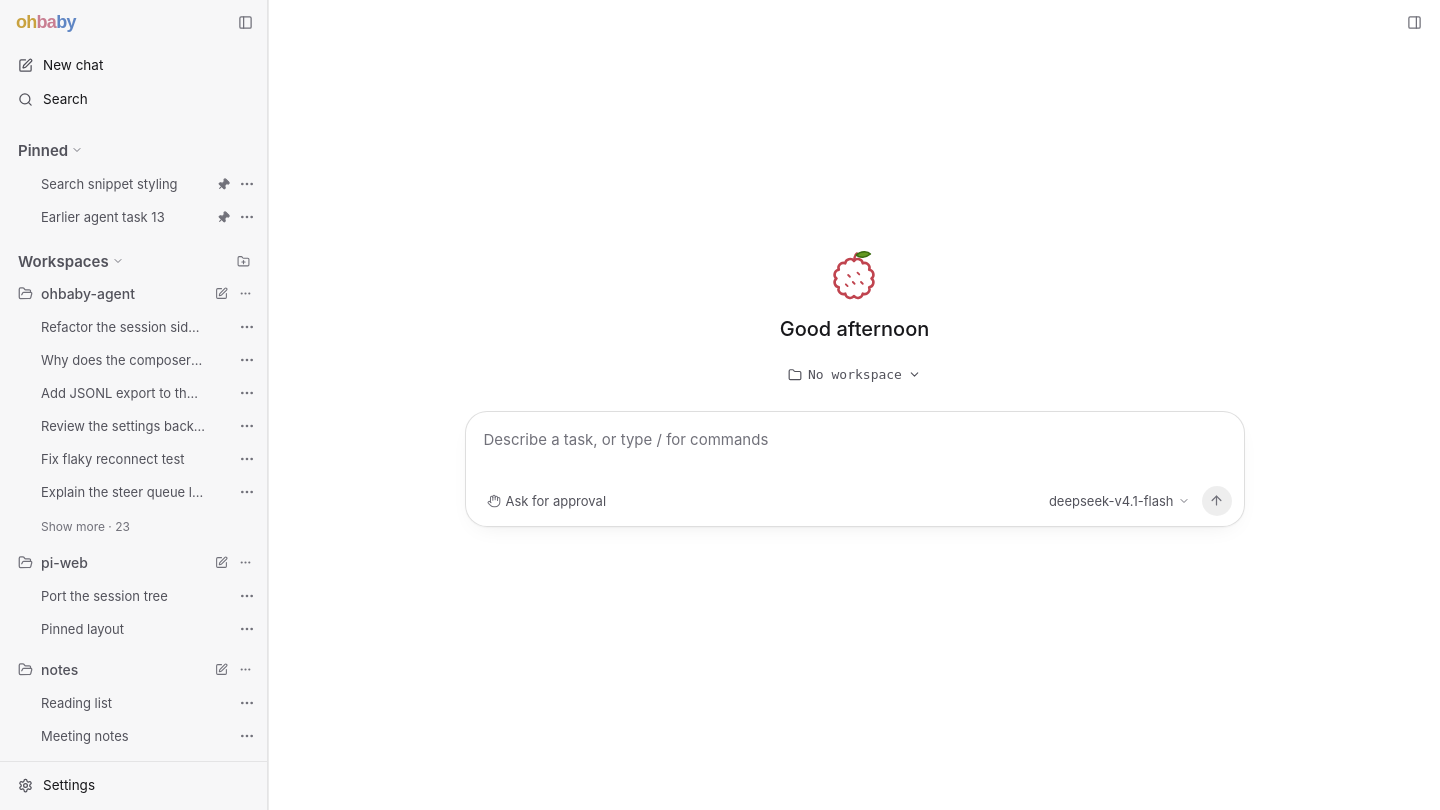
Test: settings dialog › opens from the gear, keeps the URL, closes on Escape and returns focus
The width and height of the screenshot is (1440, 810).
Later steps or results of the test are not shown.
Click the button "Settings" at (134, 785), box [8,768,259,802]
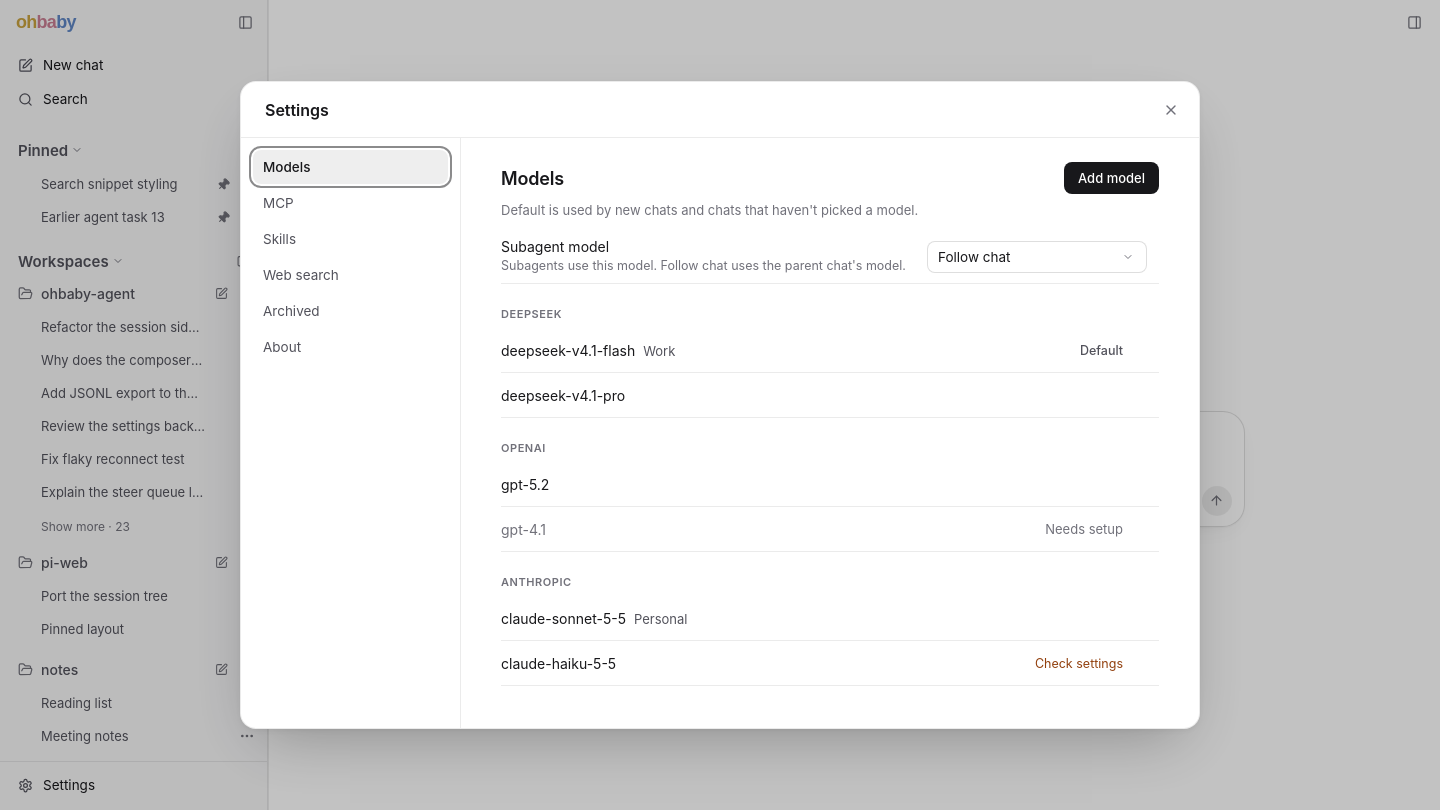
Expected: the button with class "ohb-settings-nav-item" reads "Models", [253,150,448,184]
Expected: the dialog with class "ohb-settings-dialog" shows "Default", [493,328,1131,372]
Expected: the dialog with class "ohb-settings-dialog" shows "Needs setup", [493,507,1131,551]
